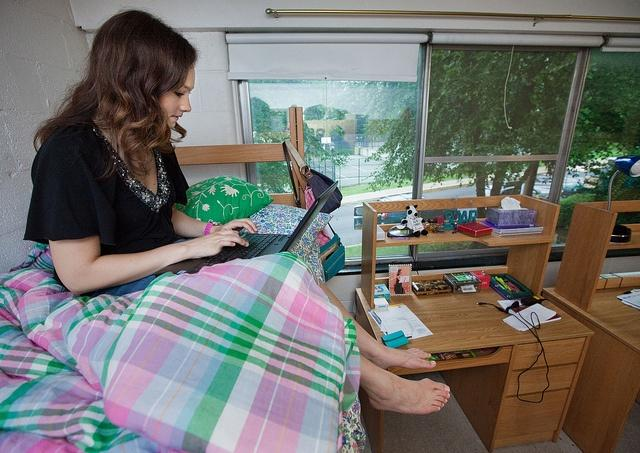Meja: (355, 280, 594, 366)
